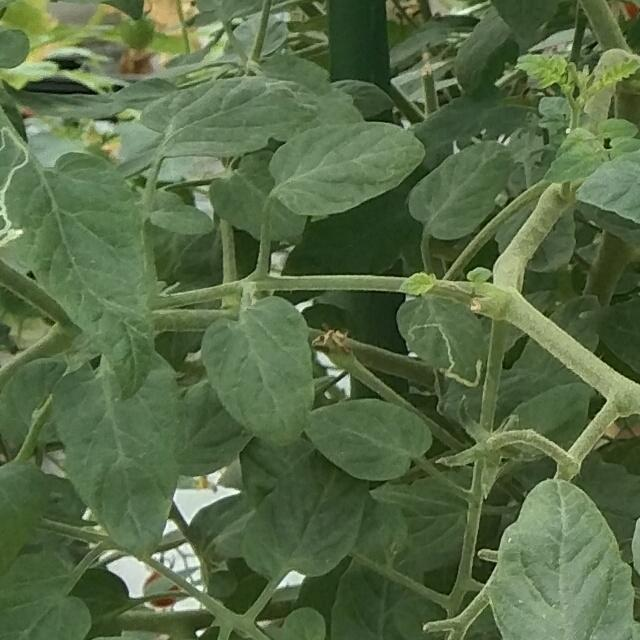Healthy: (31, 149, 156, 400), (54, 353, 188, 566), (486, 478, 634, 640), (200, 290, 312, 449), (239, 452, 371, 582), (268, 118, 426, 219), (308, 398, 438, 486), (407, 139, 515, 240)
Leaf_Miner: (396, 295, 486, 399), (0, 120, 41, 276)
